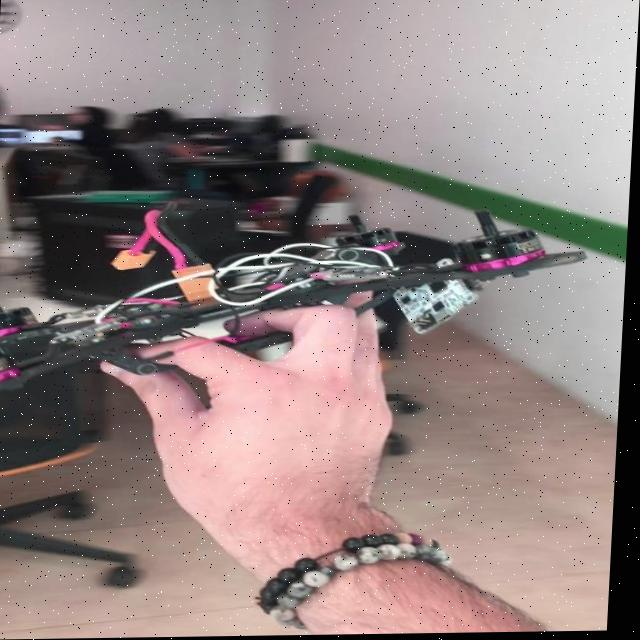drone: (0, 210, 594, 402)
